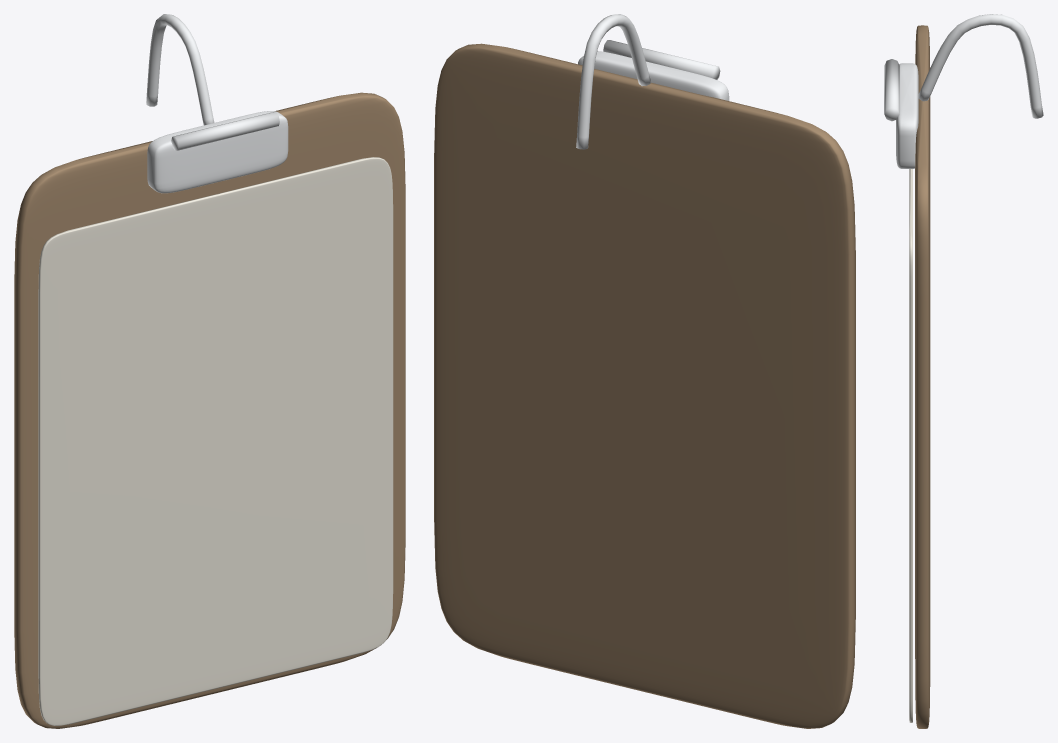
File: card.glb
The picture shows the model from 3 angles, left to right: view 1: azimuth 30°, elevation 25°; view 2: azimuth 150°, elevation 25°; view 3: azimuth 270°, elevation 25°; orthographic projection. The views are drawn at different scales.
Visible parts, largest first — view 1: Paper, Board, Clip, Hook; view 2: Board, Clip, Hook; view 3: Board, Clip, Hook, Paper.
Part boxes in pixels (x1,y1,x2,y2): Paper: [38, 157, 393, 725]; Board: [14, 92, 405, 728]; Clip: [147, 111, 288, 193]; Hook: [146, 14, 214, 125]; Board: [434, 43, 855, 728]; Clip: [578, 40, 729, 100]; Hook: [576, 14, 650, 149]; Board: [915, 25, 930, 728]; Clip: [884, 59, 918, 168]; Hook: [918, 14, 1043, 118]; Paper: [909, 169, 912, 722].
Size of the model in its own units: 0.2298 by 0.3686 by 0.083.
